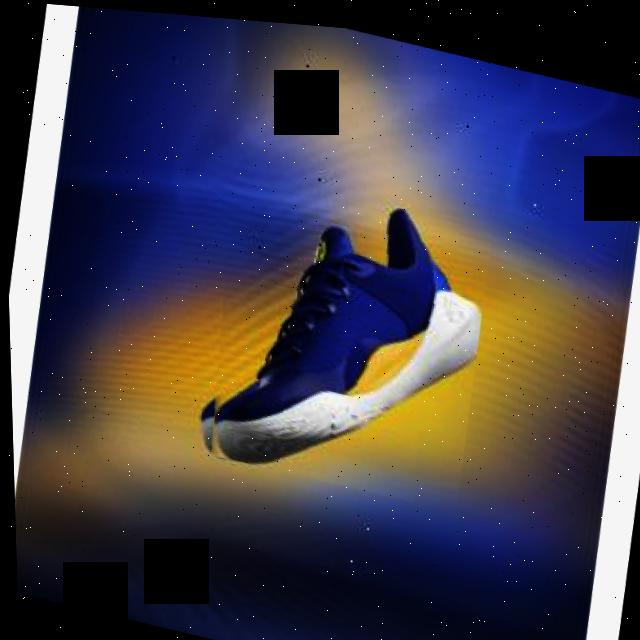shoe: (187, 163, 498, 509)
